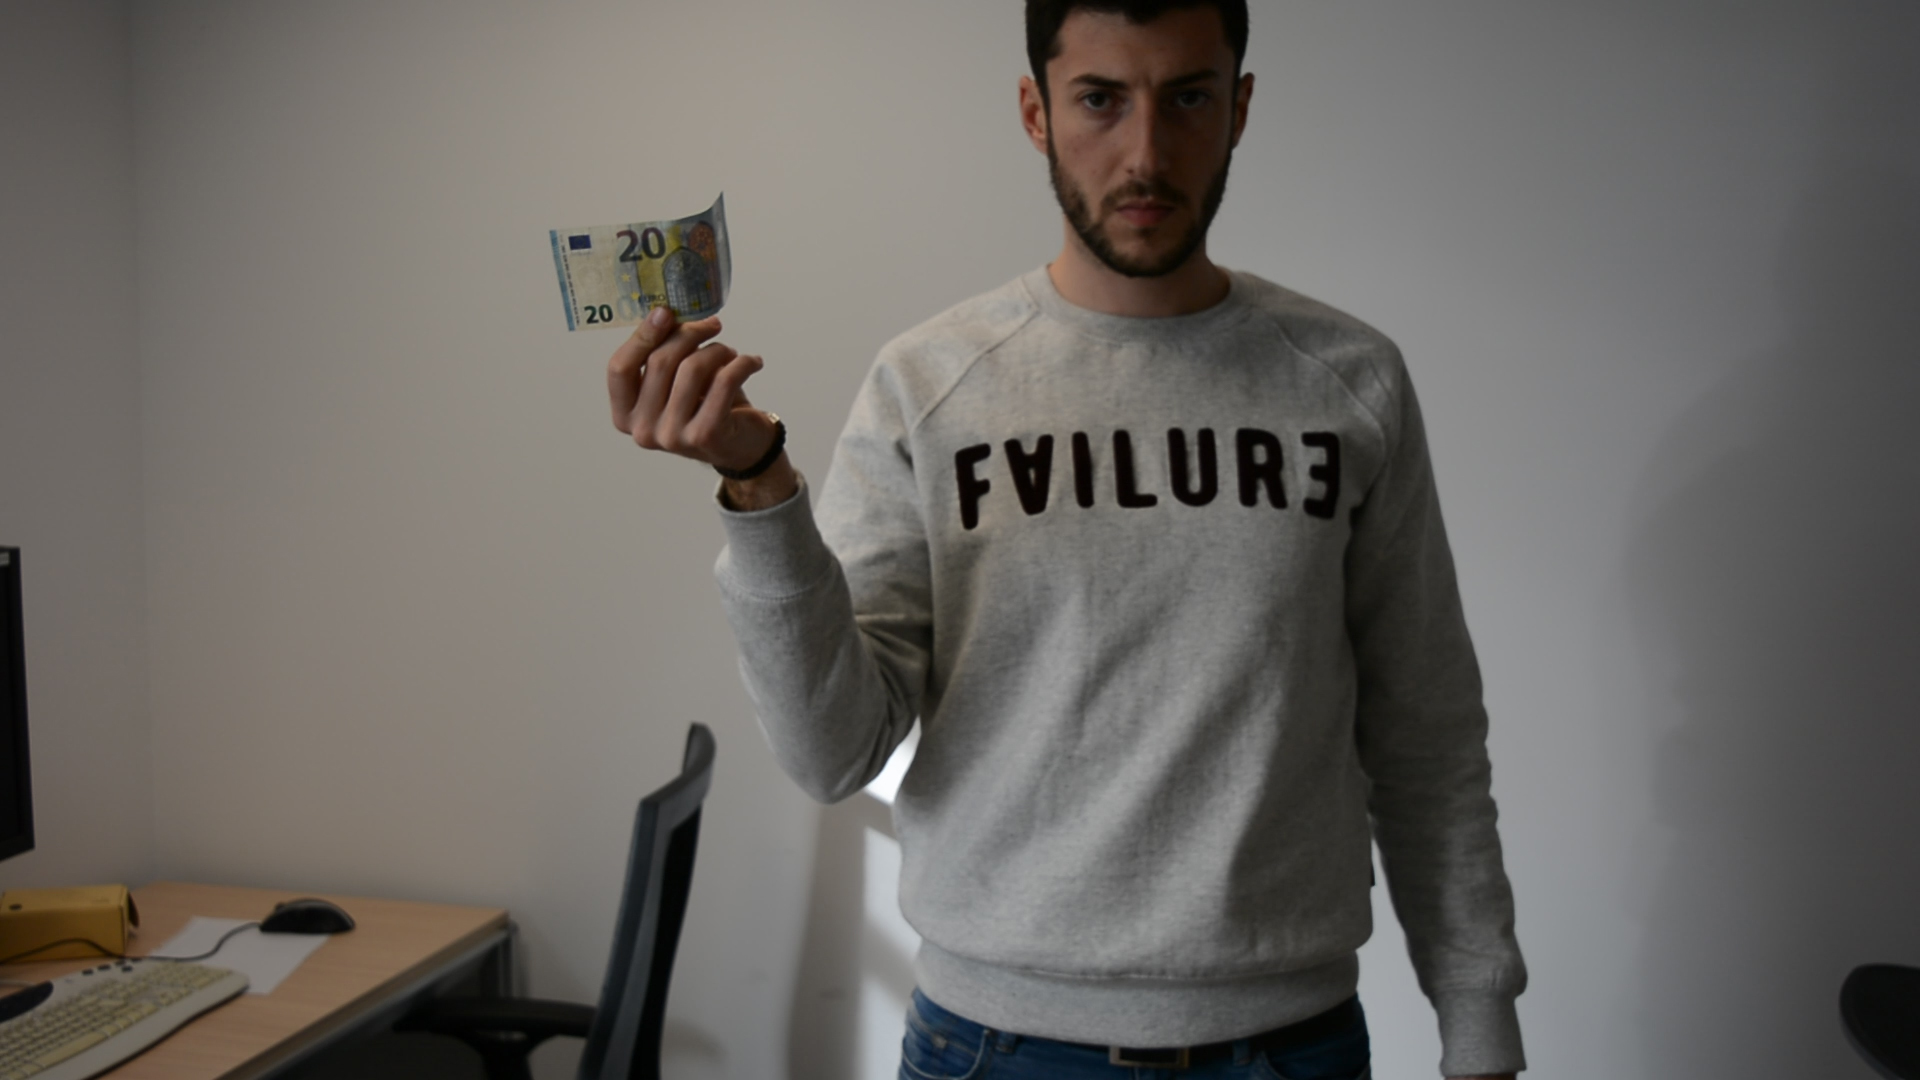billete: (549, 189, 733, 334)
